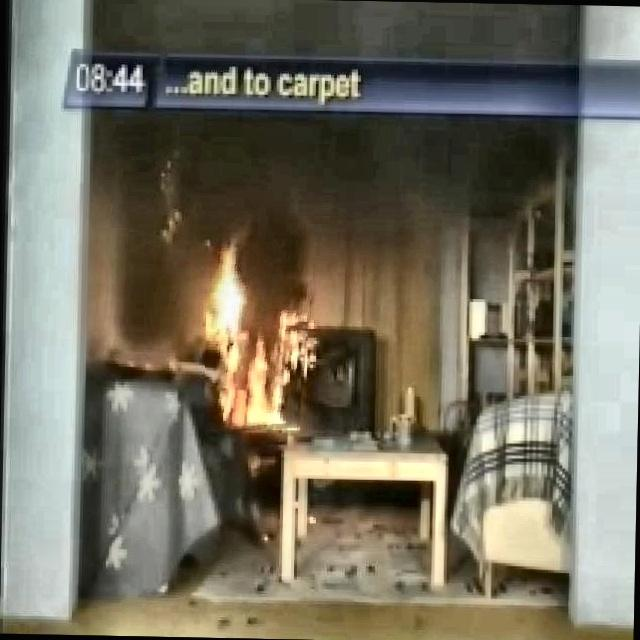fire: (186, 223, 278, 343)
